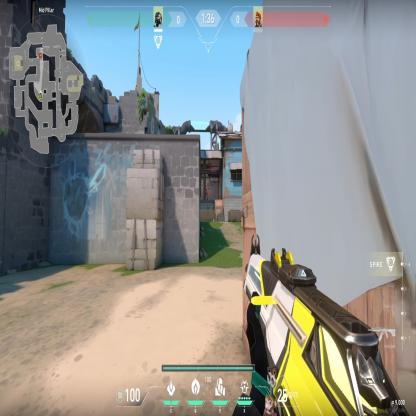enemy: (205, 186, 208, 200)
